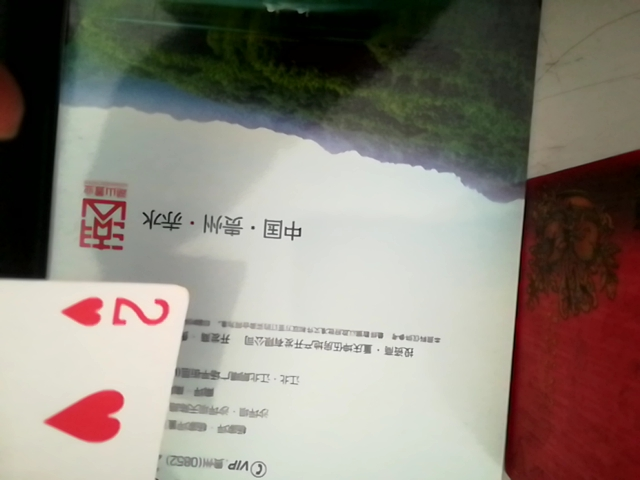hx 2: (0, 268, 192, 480)
